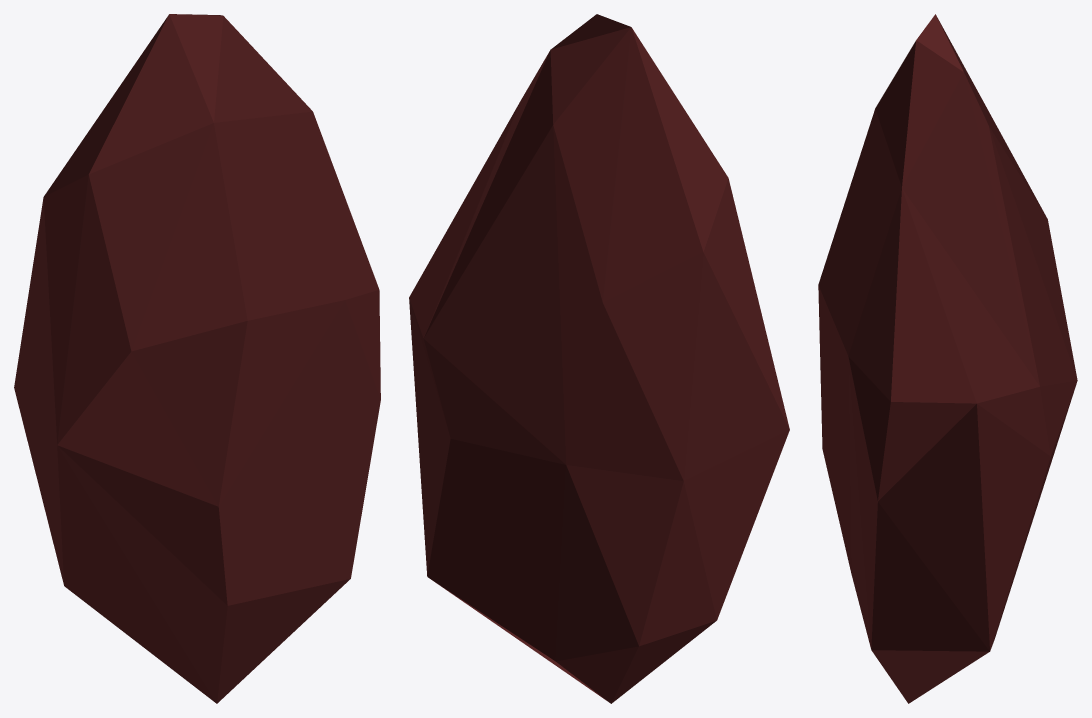
The model's file is jewel2.glb.
3 renders of one model, left to right at view 1: azimuth 30°, elevation 25°; view 2: azimuth 150°, elevation 25°; view 3: azimuth 270°, elevation 25°, orthographic. The views are drawn at different scales.
Parts seen in each view (by area): view 1: SM_Prop_Jewel_05; view 2: SM_Prop_Jewel_05; view 3: SM_Prop_Jewel_05.
Part boxes in pixels (box(x1,y1,x2,y2)): SM_Prop_Jewel_05: box(14, 14, 380, 703); SM_Prop_Jewel_05: box(409, 14, 789, 703); SM_Prop_Jewel_05: box(818, 14, 1077, 703).
Bounding box in the file's own units: 0.000653 × 0.00129 × 0.000449.
1 material, 1 textured.
